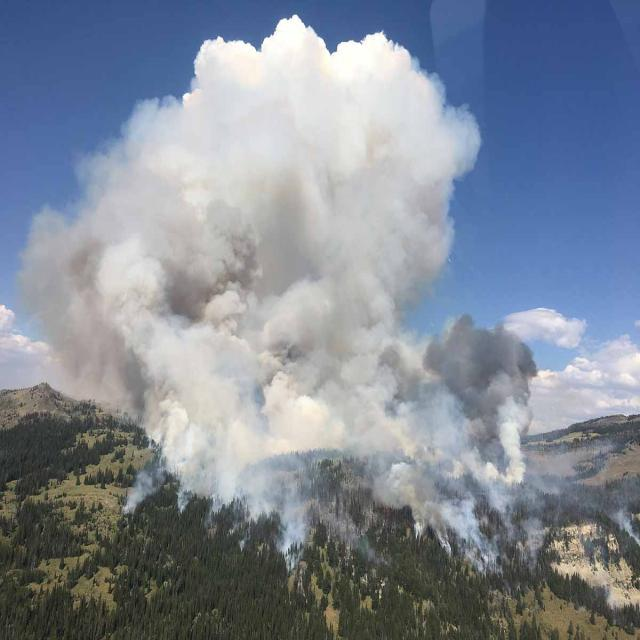Smoke: (65, 40, 468, 526), (375, 333, 543, 528)
